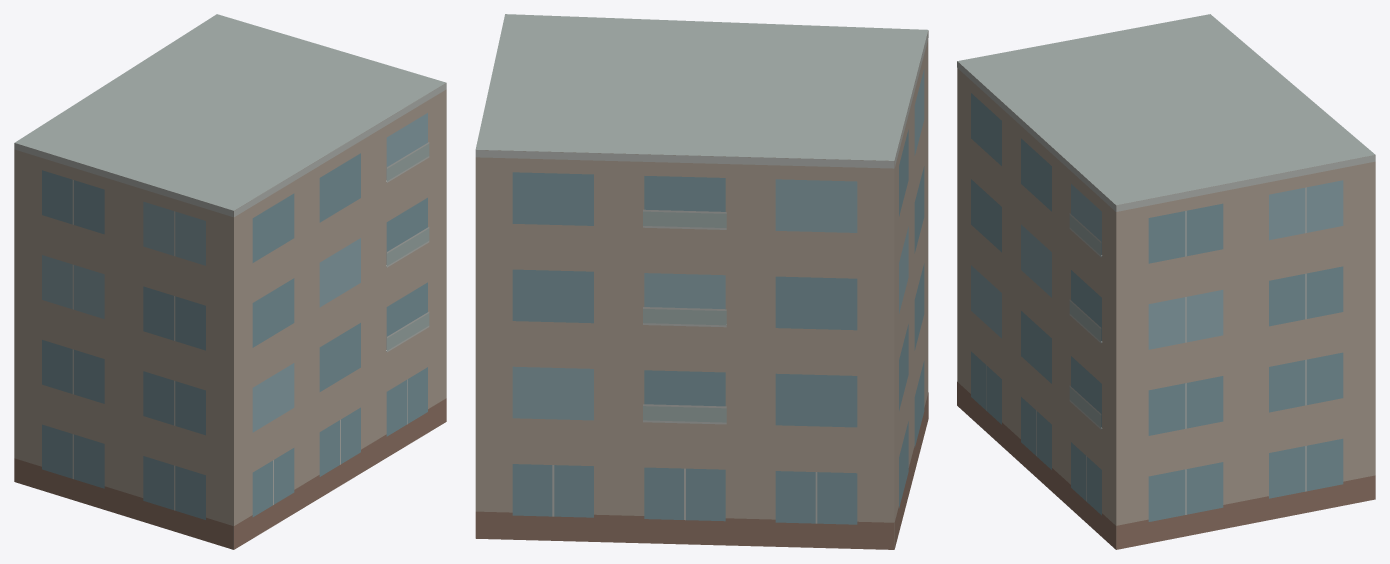
File: survey-upis-32823579.glb
The picture shows the model from 3 angles, left to right: view 1: azimuth 30°, elevation 25°; view 2: azimuth 150°, elevation 25°; view 3: azimuth 270°, elevation 25°; orthographic projection. The views are drawn at different scales.
Visible parts, largest first — view 1: survey-upis-32823579.tmp; view 2: survey-upis-32823579.tmp; view 3: survey-upis-32823579.tmp.
Boxes of the visible parts, box(x1,y1,x2,y2) form: survey-upis-32823579.tmp: box(14, 14, 446, 549); survey-upis-32823579.tmp: box(475, 14, 928, 549); survey-upis-32823579.tmp: box(957, 14, 1375, 549).
Size of the model in its own units: 14.89 by 12.5 by 13.77.
